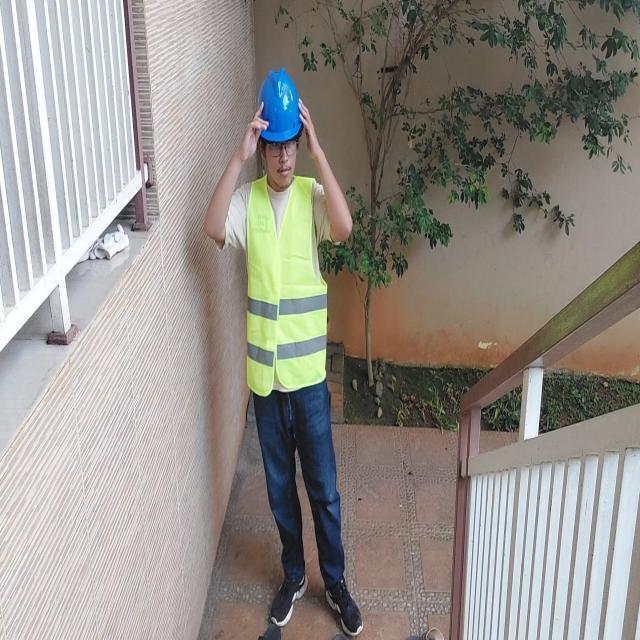Capacete: (258, 68, 301, 141)
Colete: (246, 176, 326, 395)
Pessoa: (204, 69, 362, 635)
